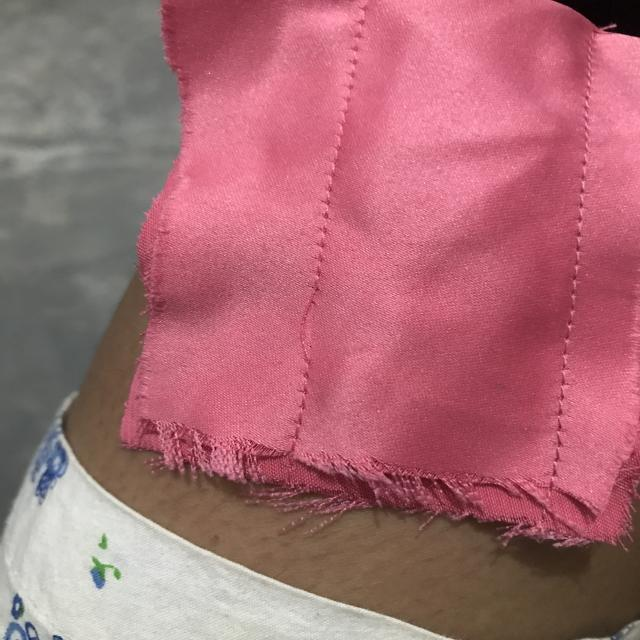good: (568, 198, 594, 324)
skip: (276, 273, 344, 388)
